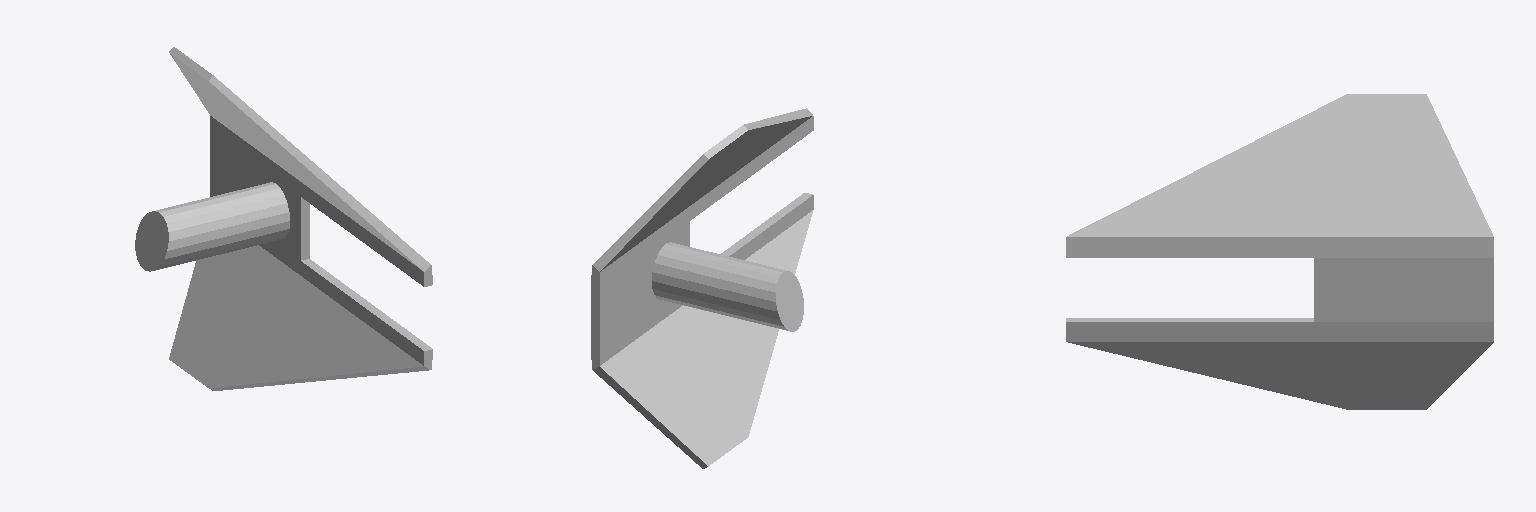
Rendered from vragquad4.obj.
3 views of the same model, side by side, from view 1: azimuth 30°, elevation 25°; view 2: azimuth 150°, elevation 25°; view 3: azimuth 270°, elevation 25° (orthographic).
Visible parts, largest first — view 1: vrag; view 2: vrag; view 3: vrag.
Part boxes in pixels (left/top/right/bottom): vrag: left=135, top=47, right=432, bottom=390; vrag: left=591, top=108, right=813, bottom=468; vrag: left=1066, top=94, right=1493, bottom=409.
Bounding box in the file's own units: 4.21 × 9.02 × 11.09.